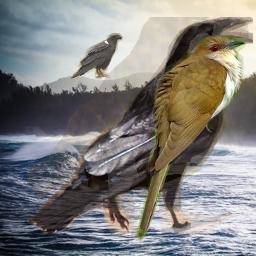Crow: (27, 17, 253, 234), (69, 33, 123, 81)
Cuckoo: (135, 35, 246, 241)
